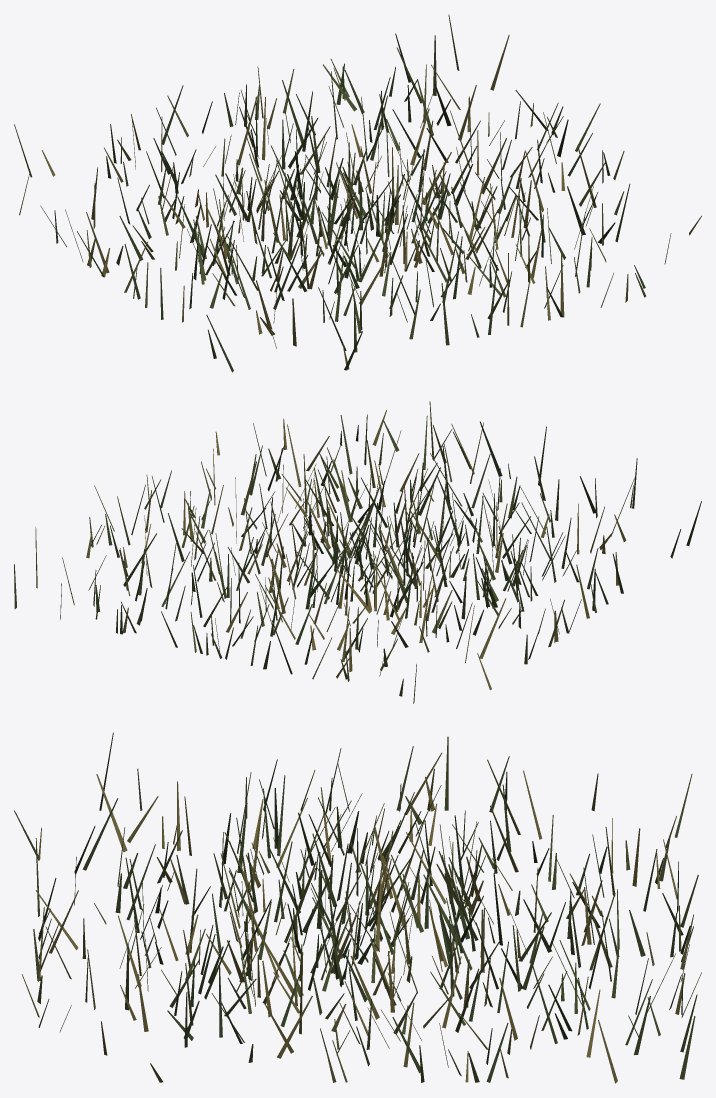
File: SM_80s_GrassPatch_B.glb
The picture shows the model from 3 angles, top to bottom: view 1: azimuth 30°, elevation 25°; view 2: azimuth 150°, elevation 25°; view 3: azimuth 270°, elevation 25°; orthographic projection. The views are drawn at different scales.
Parts seen in each view (by area): view 1: SM_80s_GrassPatch_B; view 2: SM_80s_GrassPatch_B; view 3: SM_80s_GrassPatch_B.
Boxes of the visible parts, <box> form: SM_80s_GrassPatch_B: <box>14,14,701,372</box>; SM_80s_GrassPatch_B: <box>14,401,701,703</box>; SM_80s_GrassPatch_B: <box>14,732,701,1083</box>.
Bounding box in the file's own units: 4.59 × 0.5576 × 4.49.
